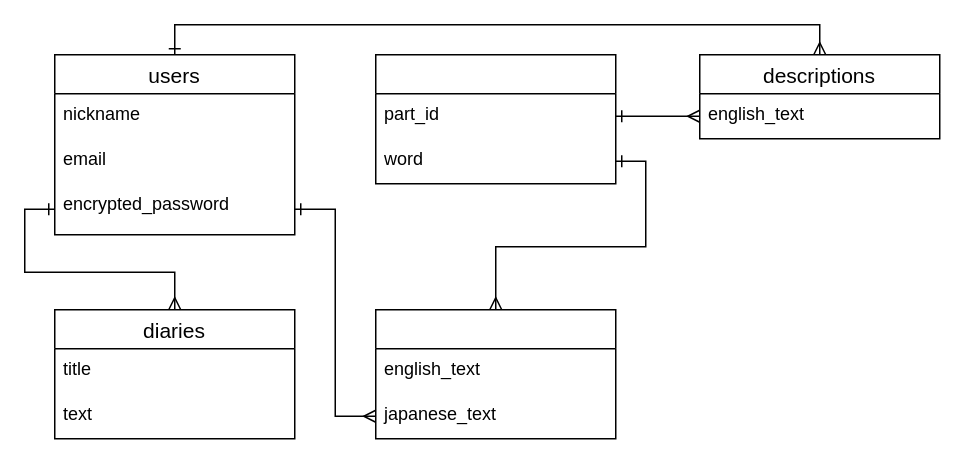
The diagram is 965 pixels wide and 464 high, and some of its shapes have lost their labels. The box of each missing label's shape, as (x1, y1, x2, y2) in pixels:
contents: (374, 53, 616, 184)
sentences: (374, 308, 616, 439)
